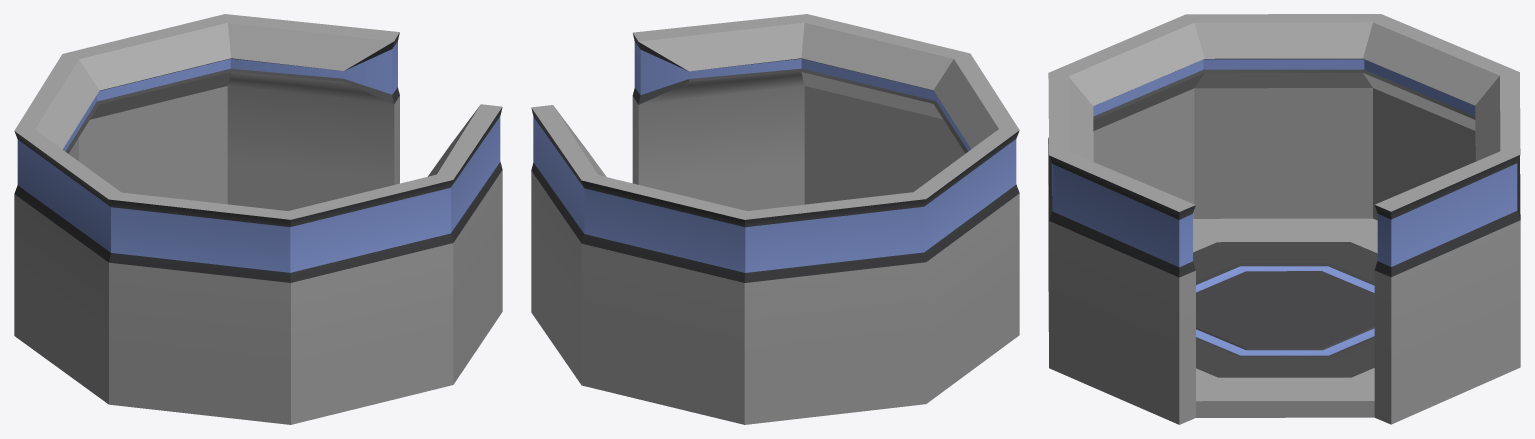
File: ROOM BOSS.fbx
3 views of the same model, side by side, from view 1: azimuth 30°, elevation 25°; view 2: azimuth 150°, elevation 25°; view 3: azimuth 270°, elevation 25° (orthographic). The views are drawn at different scales.
Parts seen in each view (by area): view 1: pCylinder23; view 2: pCylinder23; view 3: pCylinder23.
Part boxes in pixels (<box>): pCylinder23: <box>14,14,502,424</box>; pCylinder23: <box>531,14,1019,424</box>; pCylinder23: <box>1048,14,1520,424</box>.
Bounding box in the file's own units: 1339 × 671 × 1348.
